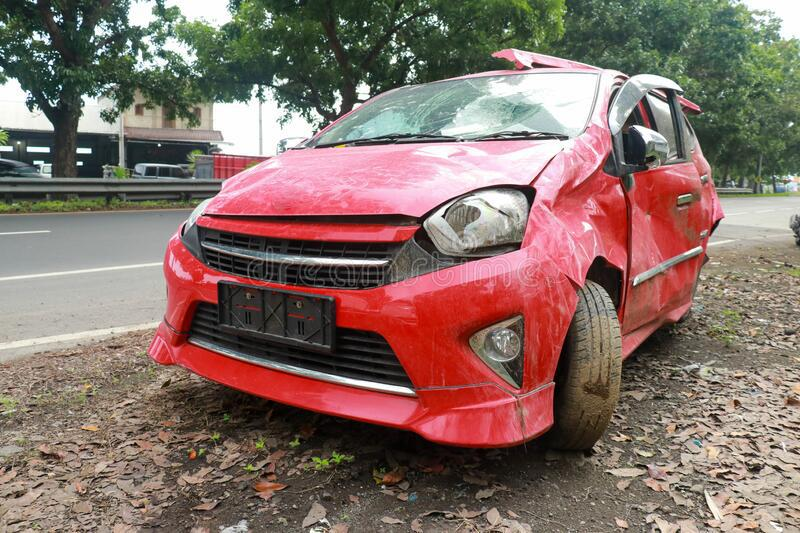doorouter-dent: (629, 169, 702, 324)
fender-dent: (526, 139, 624, 280)
